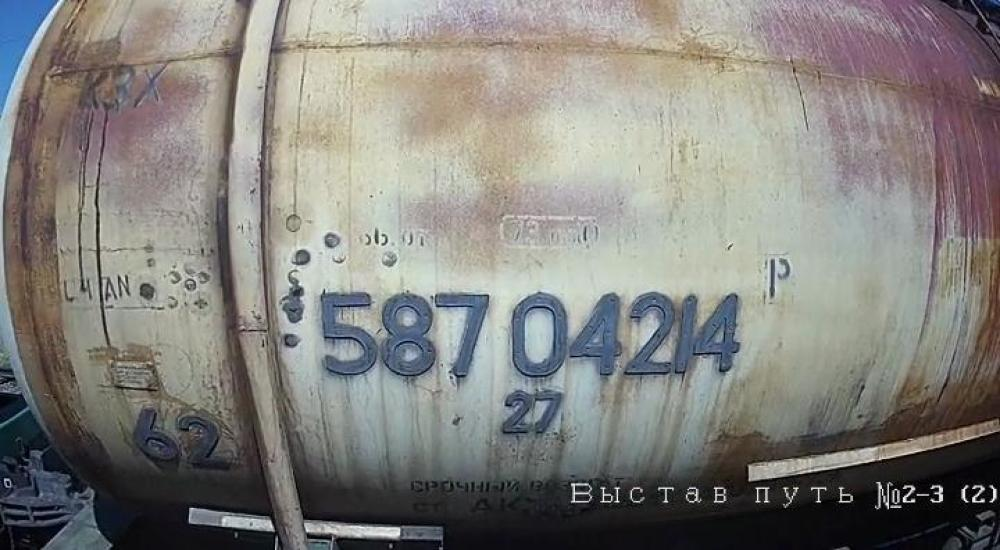Wagon-number: (317, 288, 747, 380)
